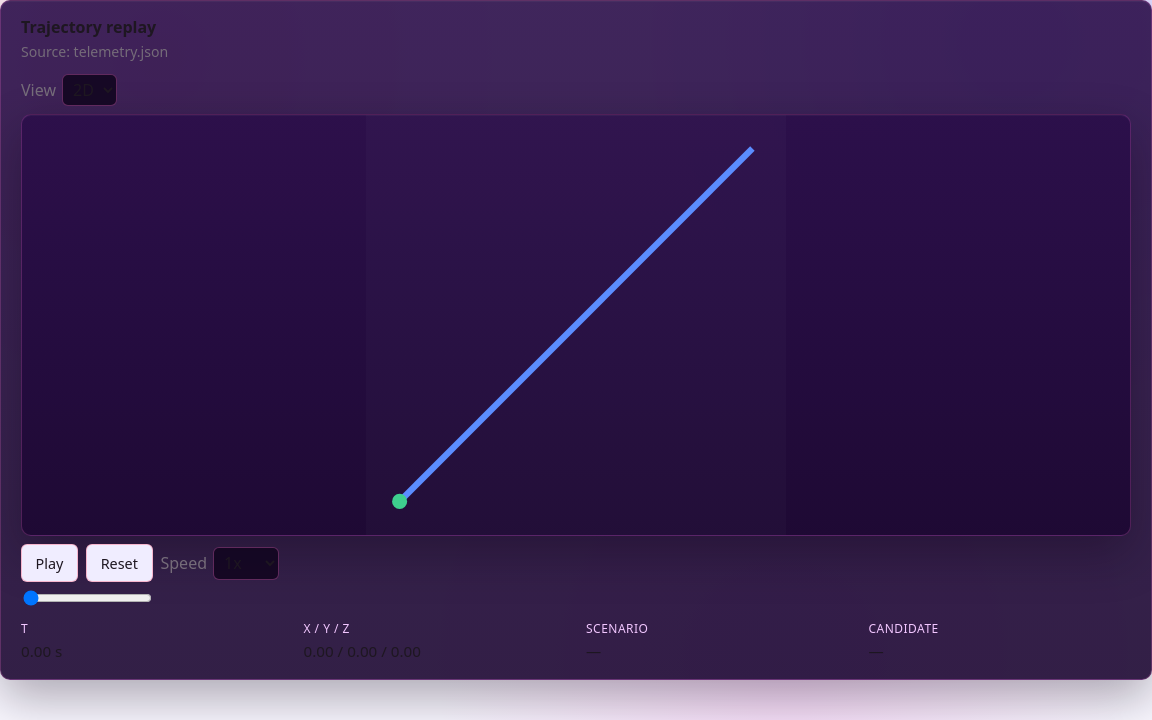
Test: TrajectoryReplay › switches to 3D view after selecting it
Expected: the picture with test id "trajectory-replay-svg-2d" is shown, left=22, top=116, right=1130, bottom=536
Select "3D" in the dropdown named "Replay view mode" at (90, 90), box left=62, top=74, right=117, bottom=106
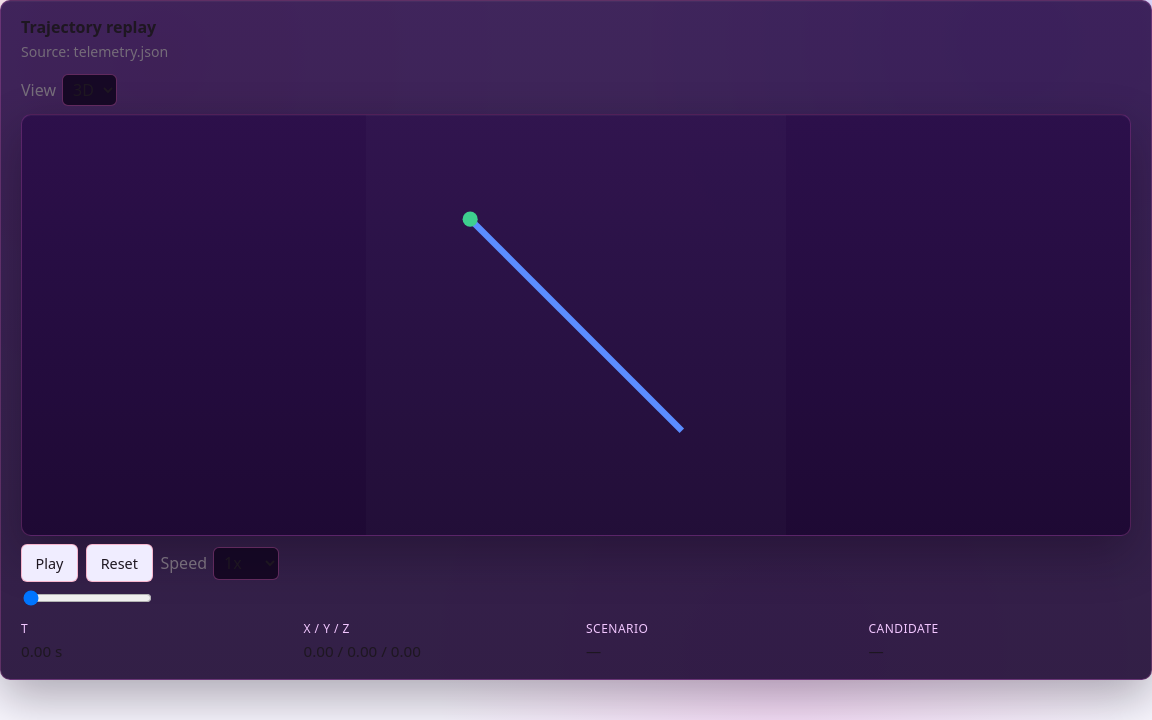
Expected: the picture with test id "trajectory-replay-svg-3d" is shown, left=22, top=116, right=1130, bottom=536
